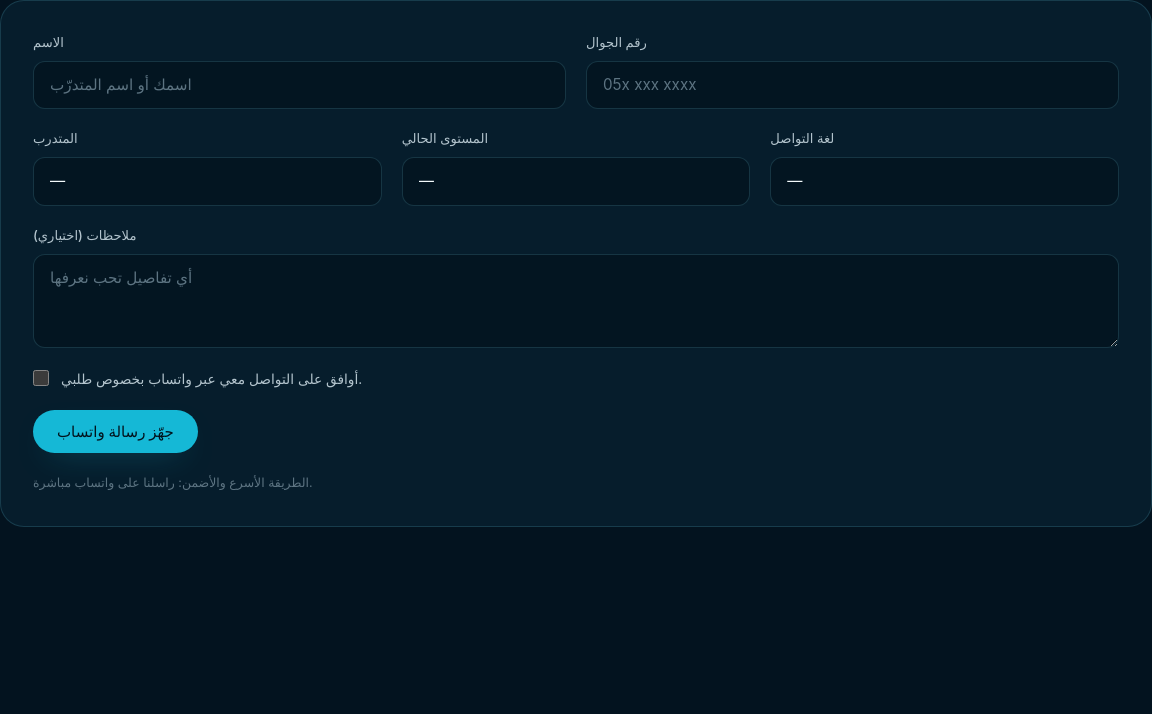
Test: TrialRequestForm validation › blocks submission and exposes associated error messages
This screenshot has width=1152, height=714.
Click the button with test id "trial-form-submit". click: (115, 432)
box: x1=33 y1=410 x2=198 y2=453
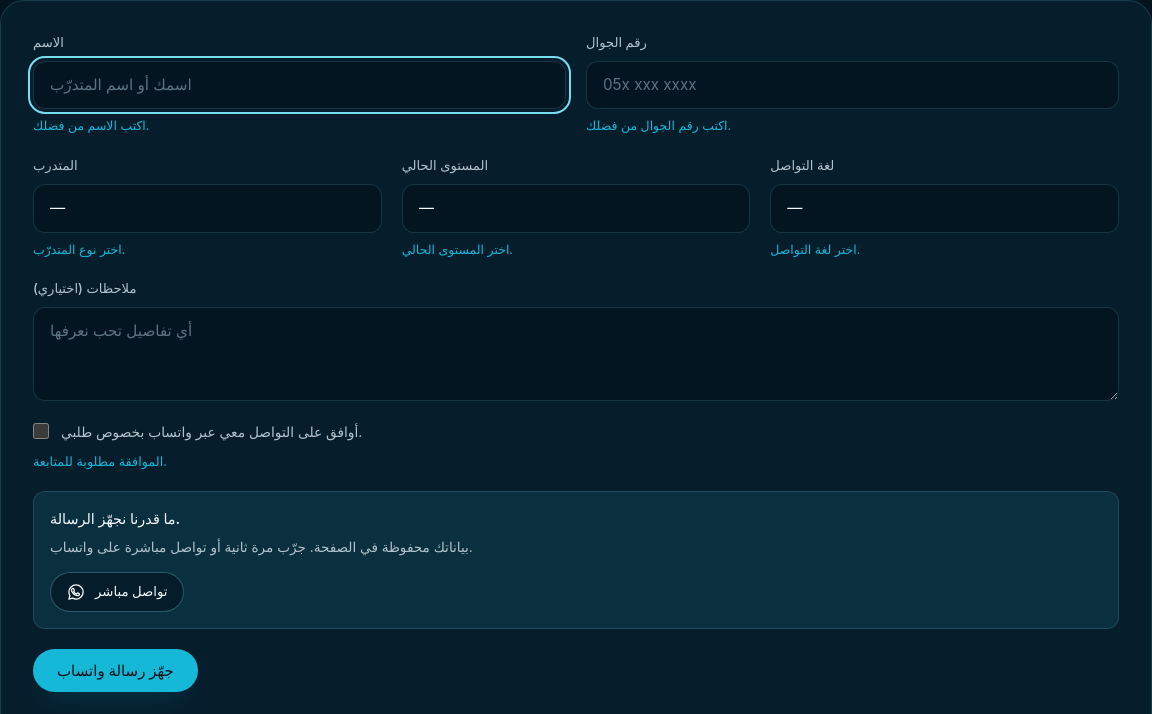
Now the text "الموافقة مطلوبة للمتابعة." is shown, box x1=33 y1=454 x2=167 y2=469
